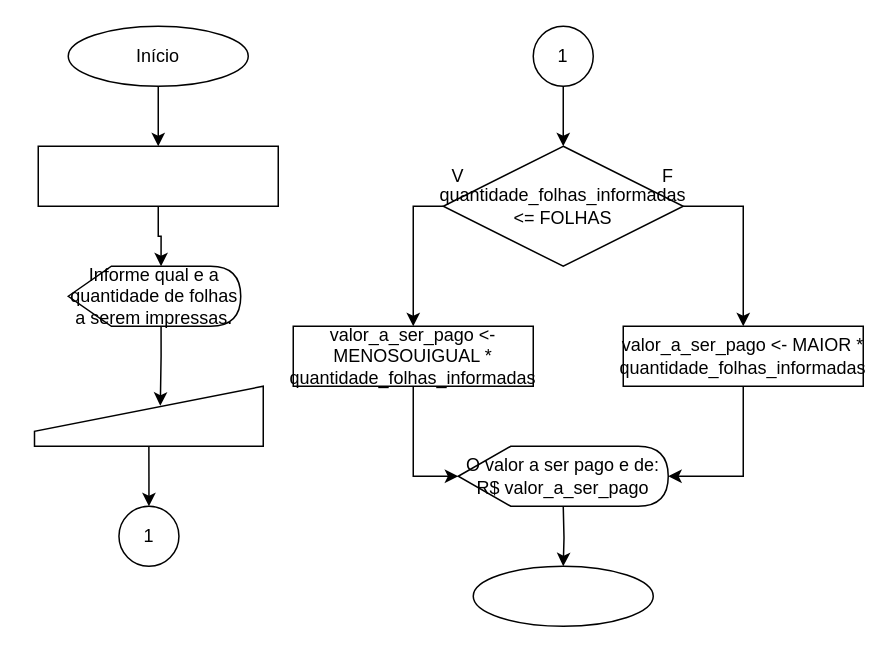
Image size: 893x653. Some labels were removed from this diagram. The shapes that lost their labels are listed below. From the top down, each one's centre as x and y in pixels, then its label:
pixel 157 175: FOLHAS <- 100 MENOSOUIGUAL <- 0.25 MAIOR <- 0.20
pixel 148 415: quantidade_folhas_informadas
pixel 562 595: Fim
